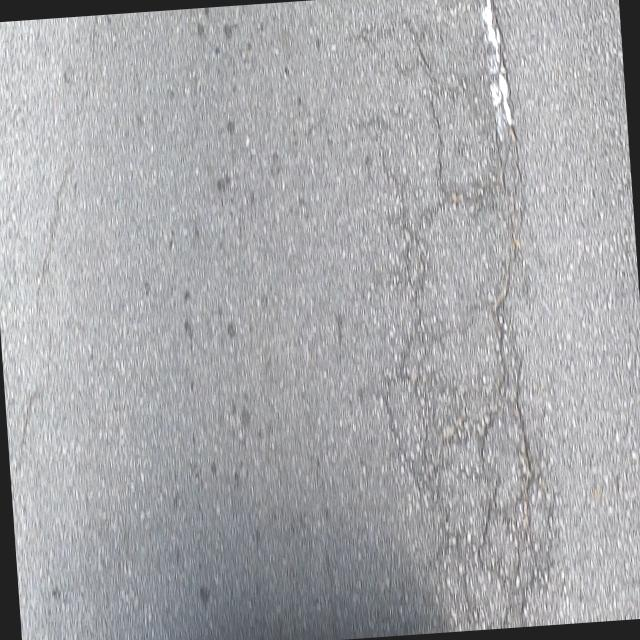Retak-Buaya: (370, 0, 555, 630)
Retak-Memanjang: (13, 159, 78, 487)
